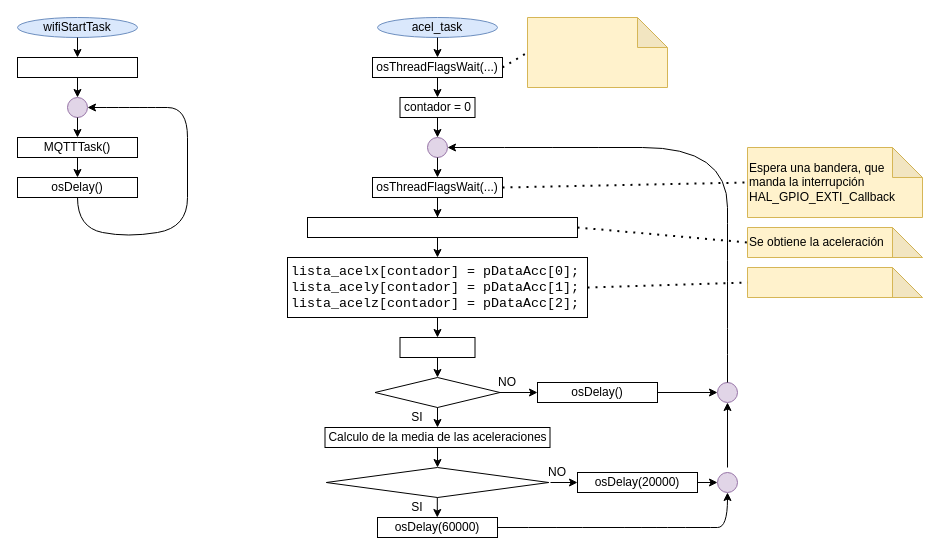
Some shapes in this 940 by 555 pixel diagram are drawn without their labels. The shapes that lost their labels are listed below. From the top down, each one's centre as x and y in pixels, then its label:
point 77,67: wifi_connect()
point 597,52: Espera una bandera, hasta que se conecte el Wifi
point 442,227: BSP_ACCELERO_AccGetXYZ(pDataAcc);
point 834,282: Se rellena la lista de aceleraciones
point 437,347: contador ++
point 437,392: contador >= 9
point 437,482: modo_operacion == 1
